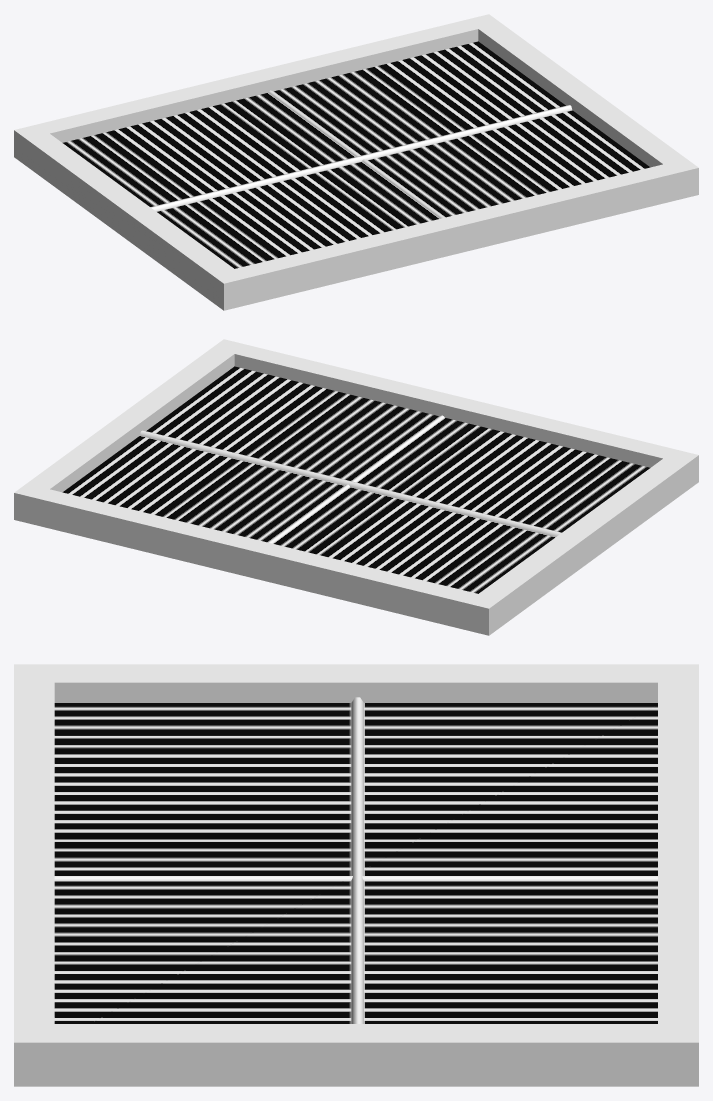
File: LC_3050_vent_LOD1.FBX
3 renders of one model, top to bottom at view 1: azimuth 30°, elevation 25°; view 2: azimuth 150°, elevation 25°; view 3: azimuth 270°, elevation 25°, orthographic. The views are drawn at different scales.
Parts seen in each view (by area): view 1: LC_3050_vent_LOD1; view 2: LC_3050_vent_LOD1; view 3: LC_3050_vent_LOD1.
Part boxes in pixels (x1,y1,x2,y2): LC_3050_vent_LOD1: (14, 14, 698, 310); LC_3050_vent_LOD1: (14, 339, 698, 635); LC_3050_vent_LOD1: (14, 664, 698, 1086).
Size of the model in its own units: 84.77 by 4.62 by 64.87.
